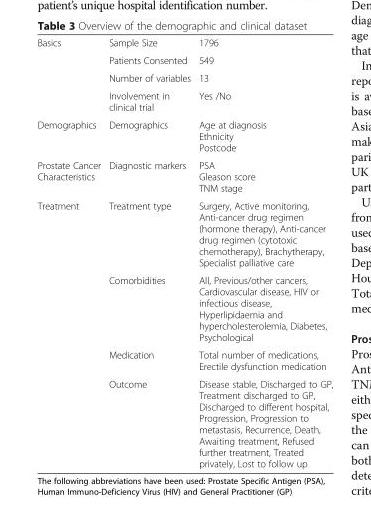table: (36, 36, 332, 468)
table column: (194, 36, 332, 468), (104, 36, 194, 468), (36, 36, 104, 468)
table row: (36, 374, 332, 468), (36, 196, 332, 271), (36, 271, 332, 345), (36, 155, 332, 196), (36, 115, 332, 155), (36, 86, 332, 115), (36, 345, 332, 374), (36, 68, 332, 86), (36, 51, 332, 68), (36, 36, 332, 51)
table spanning cell: (36, 196, 104, 468), (36, 36, 104, 115)
